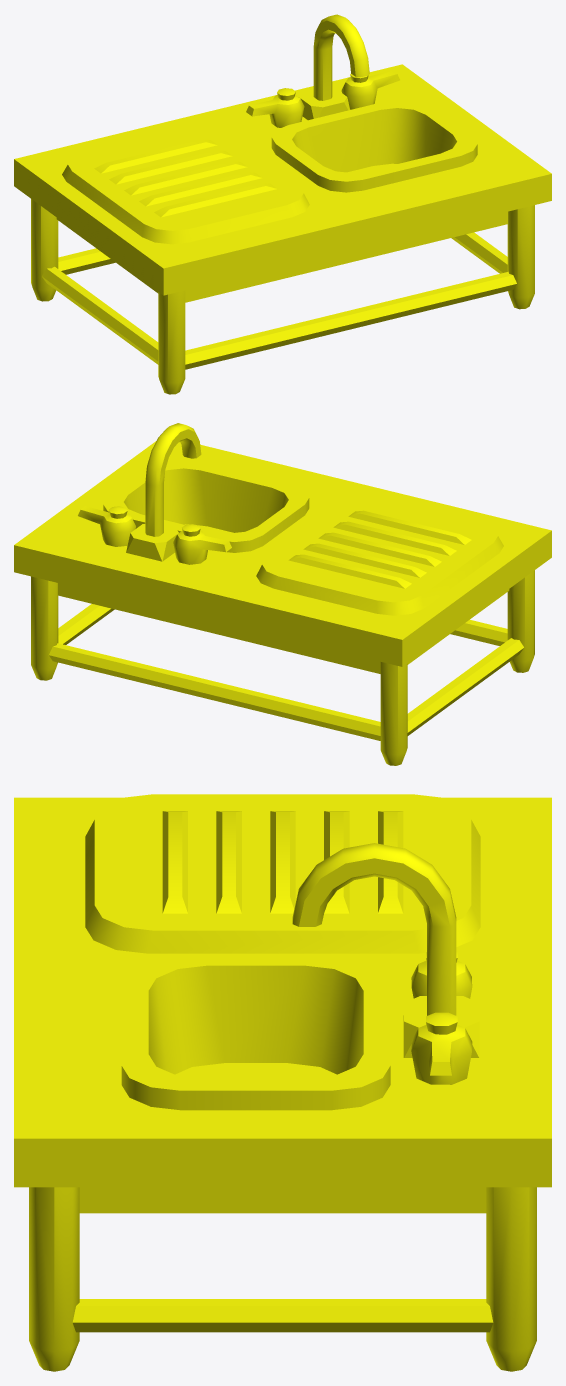
File: kitchentable_sink_large.gltf
3 renders of one model, top to bottom at view 1: azimuth 30°, elevation 25°; view 2: azimuth 150°, elevation 25°; view 3: azimuth 270°, elevation 25°, orthographic. The views are drawn at different scales.
Parts seen in each view (by area): view 1: kitchentable_sink_large; view 2: kitchentable_sink_large; view 3: kitchentable_sink_large.
Boxes of the visible parts, x1,y1,x2,y2 form: kitchentable_sink_large: [14, 14, 551, 394]; kitchentable_sink_large: [14, 423, 551, 765]; kitchentable_sink_large: [14, 794, 551, 1371].
Bounding box in the file's own units: 3 × 1.8 × 2.
1 material, 1 textured.
